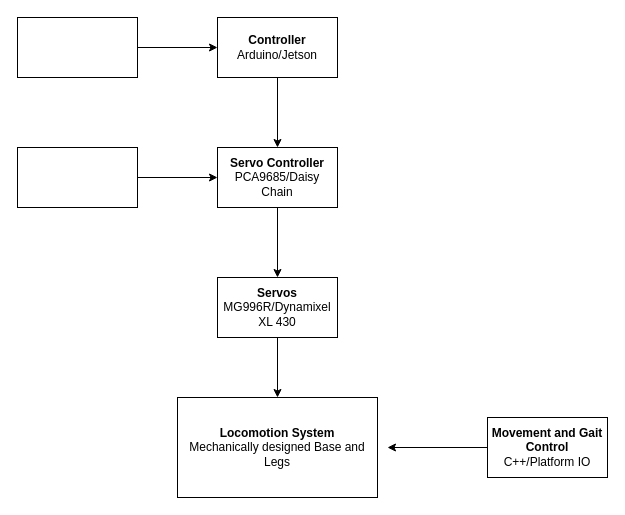
This 625x515 diagram has some shape labels left out. Each missing label, with the centre of its shape:
"Power Supply 5-12V" goes at point (77, 47).
"Power Supply 5V" goes at point (77, 177).
